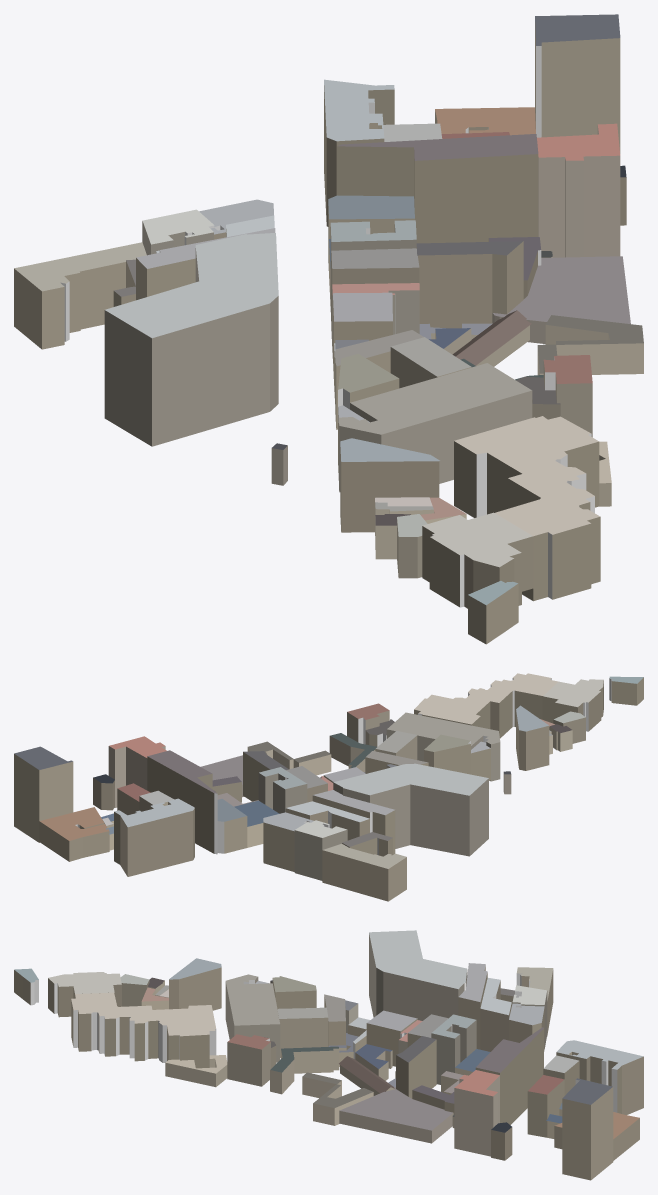
3 renders of one model, top to bottom at view 1: azimuth 30°, elevation 25°; view 2: azimuth 150°, elevation 25°; view 3: azimuth 270°, elevation 25°, orthographic. The views are drawn at different scales.
Parts seen in each view (by area): view 1: tuile; view 2: tuile; view 3: tuile.
Boxes of the visible parts, <box> form: tuile: <box>14,14,643,644</box>; tuile: <box>14,673,643,901</box>; tuile: <box>14,930,643,1180</box>.
Size of the model in its own units: 172 by 32.94 by 244.
